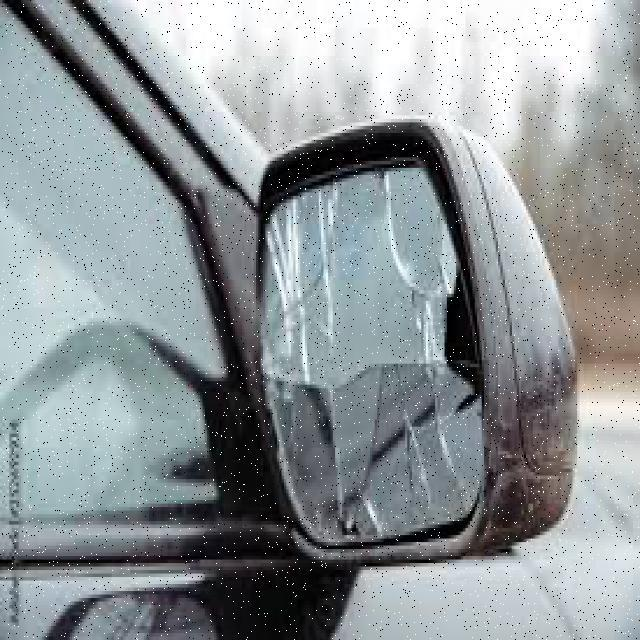Sidemirror-Damage: (235, 95, 614, 588)
